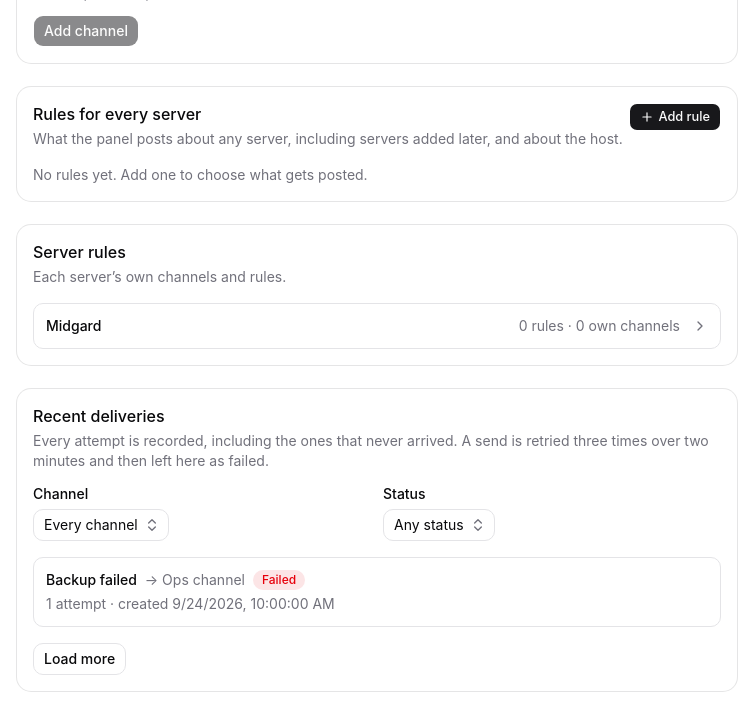
Test case: the deliveries › loads more with the same filters and the cursor
(page scrolled)
Press the mouse on the button labelled "Any status" at (439, 525), box [383, 509, 495, 541]
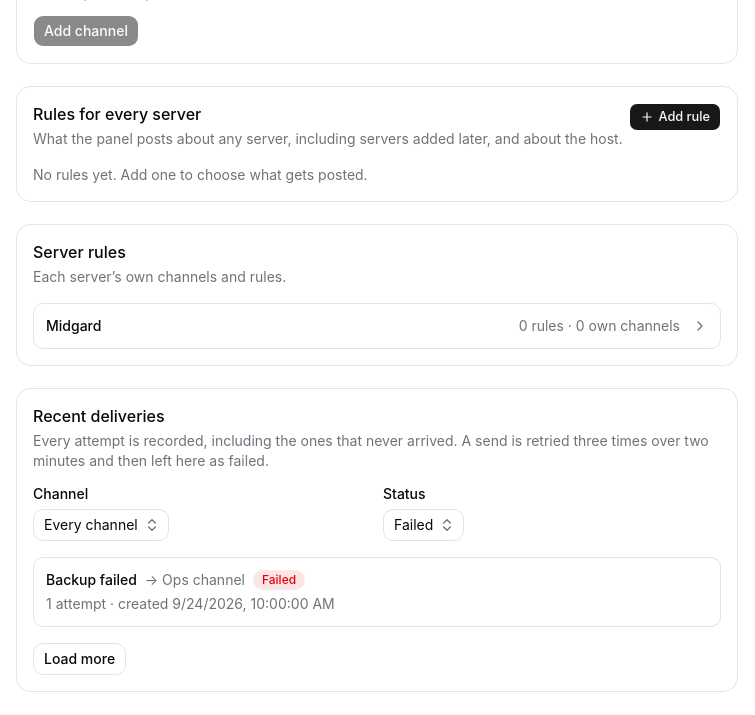
Click the button "Load more" at (80, 659), box [33, 643, 126, 675]
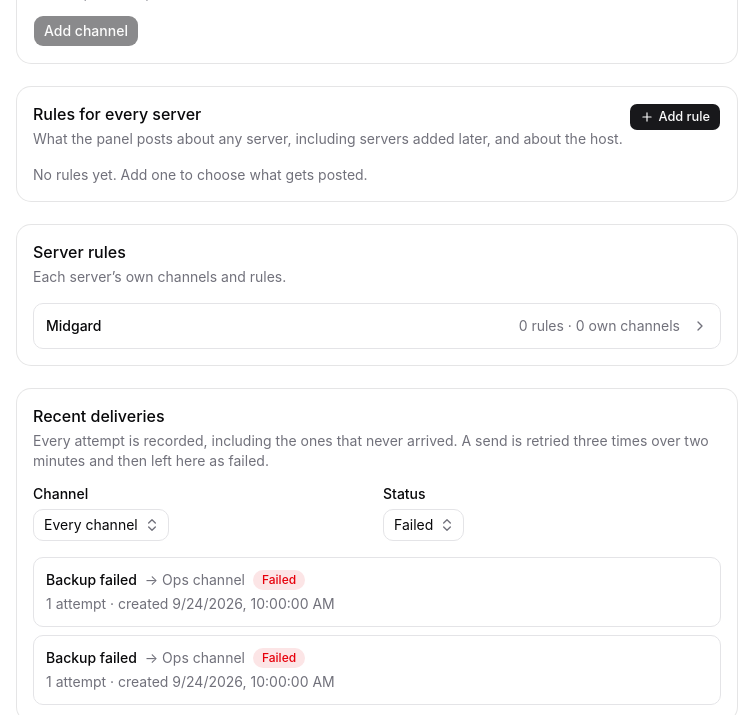
Expected: the element with test id "delivery-d-1" is shown, [33, 557, 721, 627]
Expected: the element with test id "delivery-d-2" is shown, [33, 635, 721, 705]
Expected: the button "Load more" is gone
